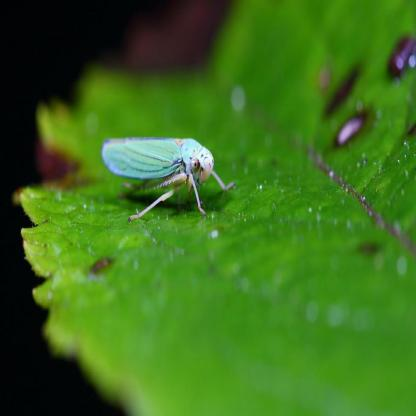Green-Leafhopper: (100, 130, 234, 224)
